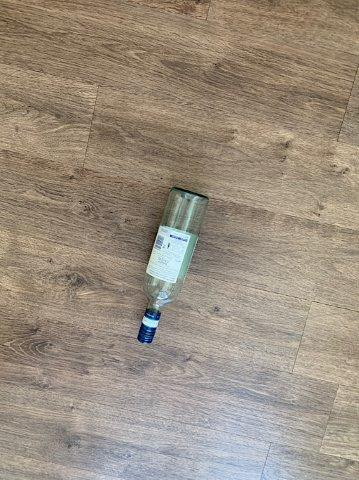botolkaca: (138, 188, 208, 343)
